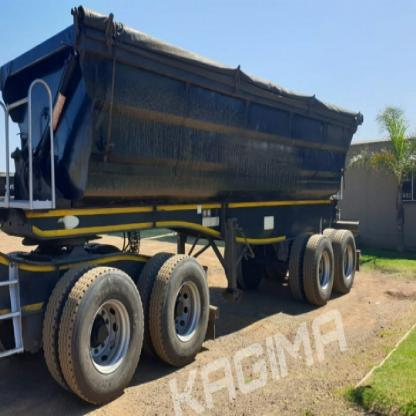dump_truck: (3, 3, 374, 404)
